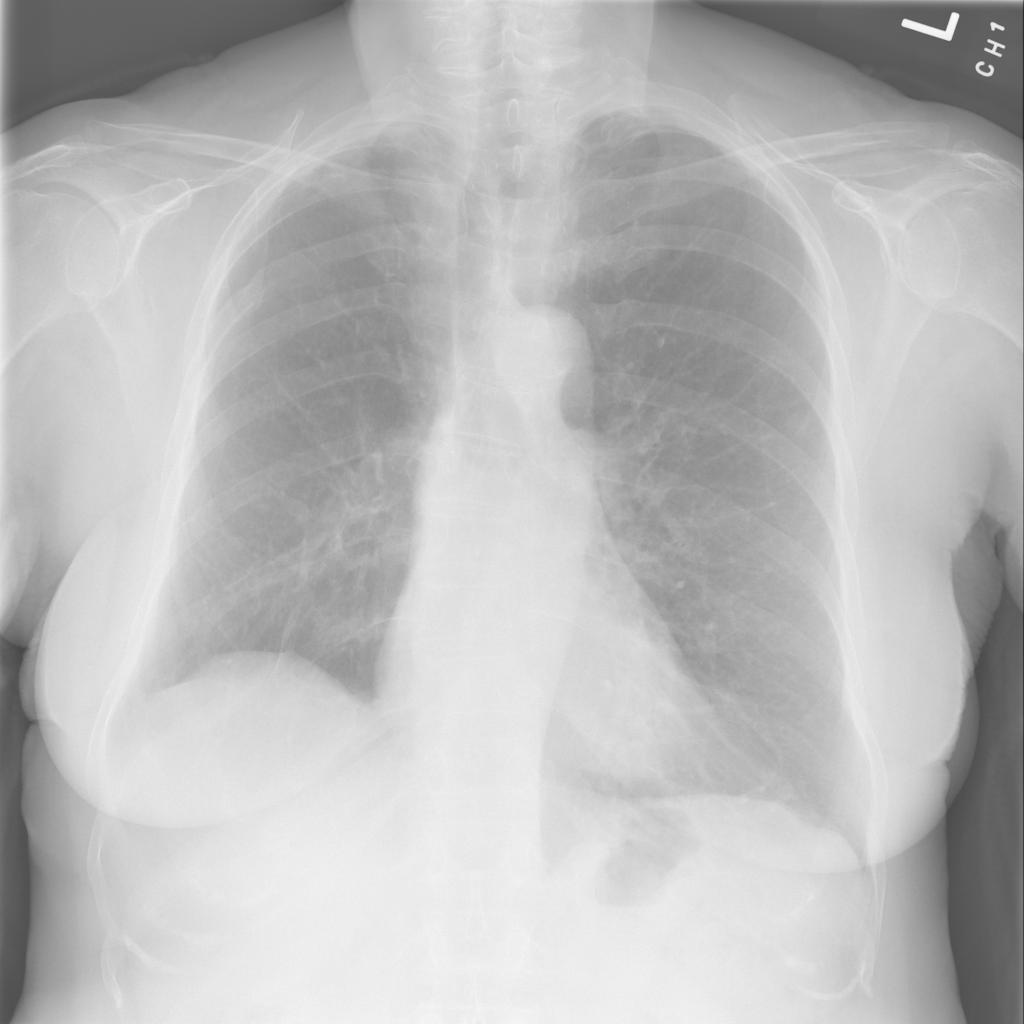Nodule: (195, 211, 225, 235), (267, 194, 286, 211), (128, 107, 147, 124)
